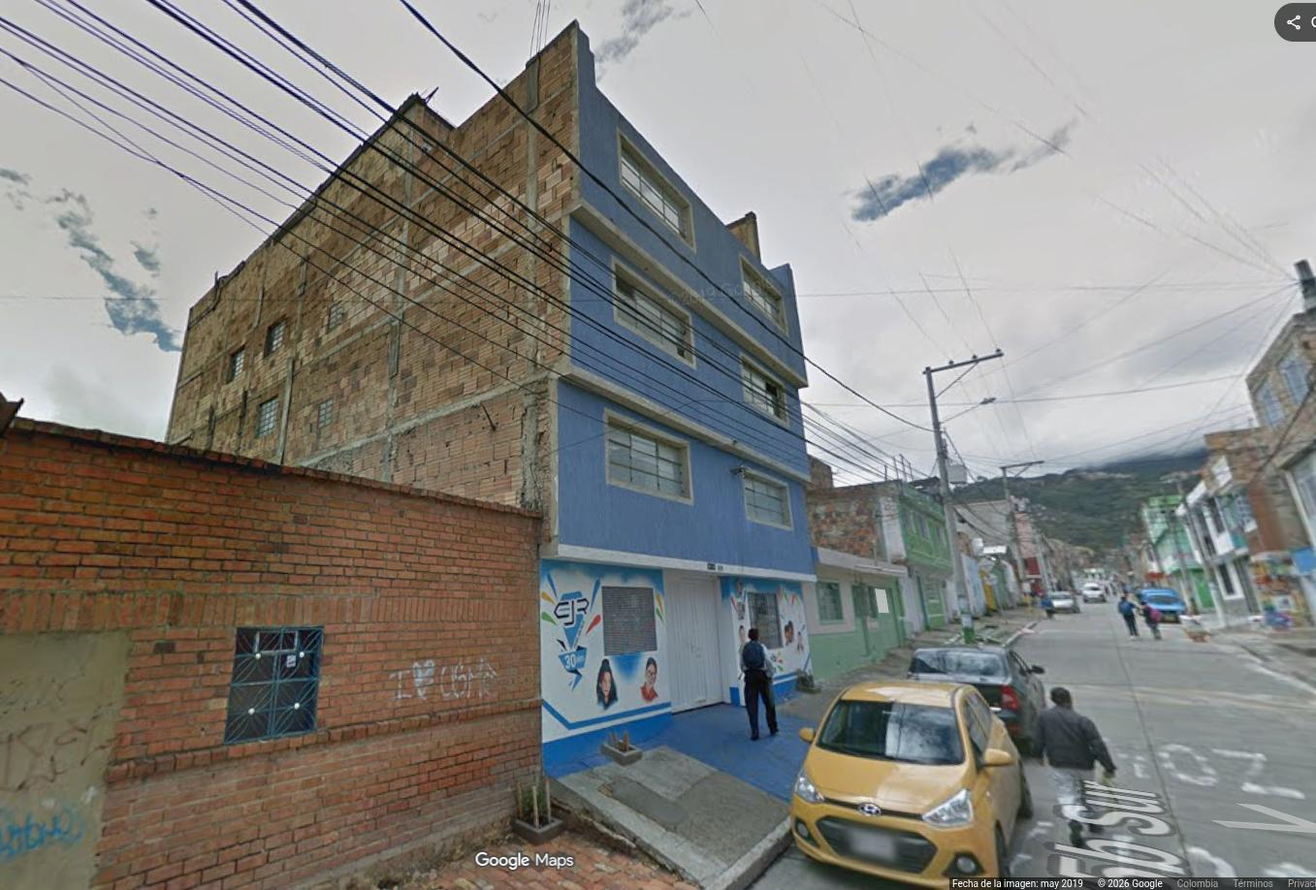casa: (168, 23, 814, 759), (0, 420, 541, 889), (805, 549, 918, 678)
poste: (924, 348, 1003, 550), (925, 357, 979, 550), (1001, 460, 1042, 573), (952, 556, 976, 642), (951, 554, 966, 602), (974, 397, 994, 408)
